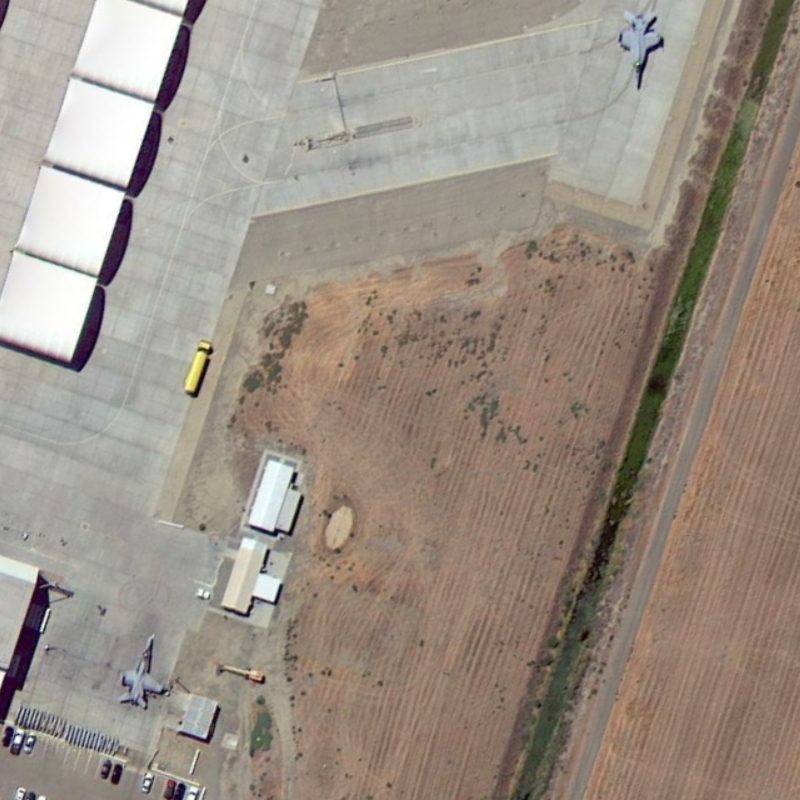A16: (608, 5, 671, 100), (113, 628, 171, 712)
